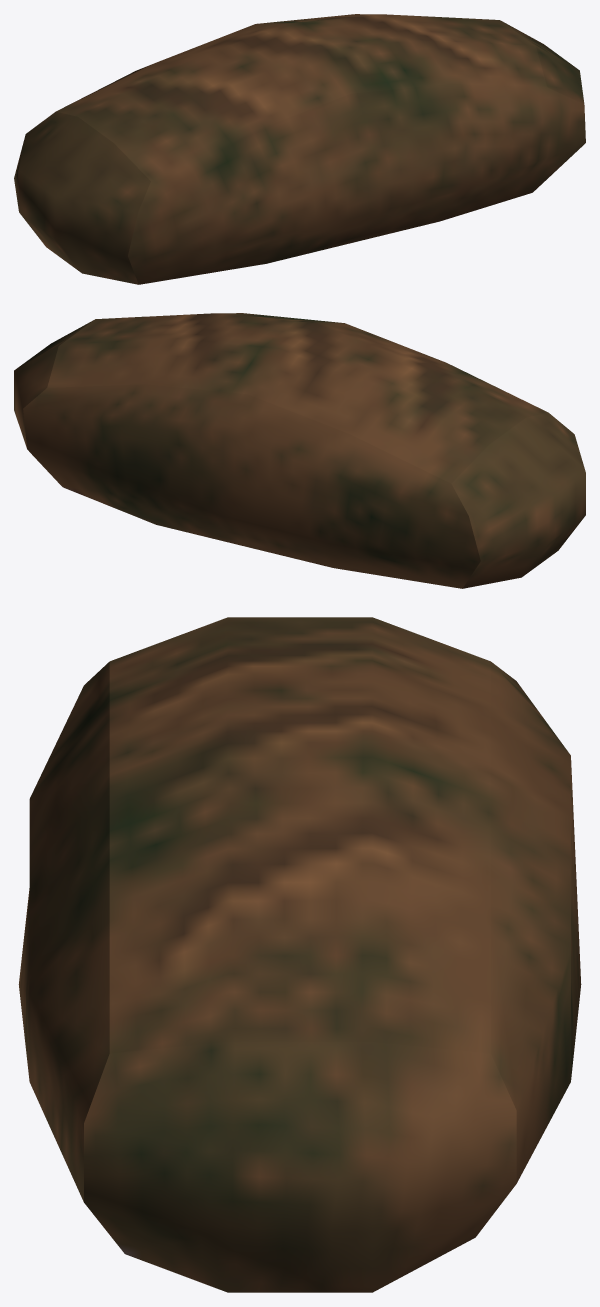
The model's file is spoiledBread.fbx.
3 renders of one model, top to bottom at view 1: azimuth 30°, elevation 25°; view 2: azimuth 150°, elevation 25°; view 3: azimuth 270°, elevation 25°, orthographic. The views are drawn at different scales.
Parts seen in each view (by area): view 1: pCube73; view 2: pCube73; view 3: pCube73.
Boxes of the visible parts, x1=… form: pCube73: x1=14, y1=14, x2=585, y2=284; pCube73: x1=14, y1=313, x2=585, y2=588; pCube73: x1=18, y1=617, x2=581, y2=1292.
Size of the model in its own units: 122 by 37.29 by 56.4.
